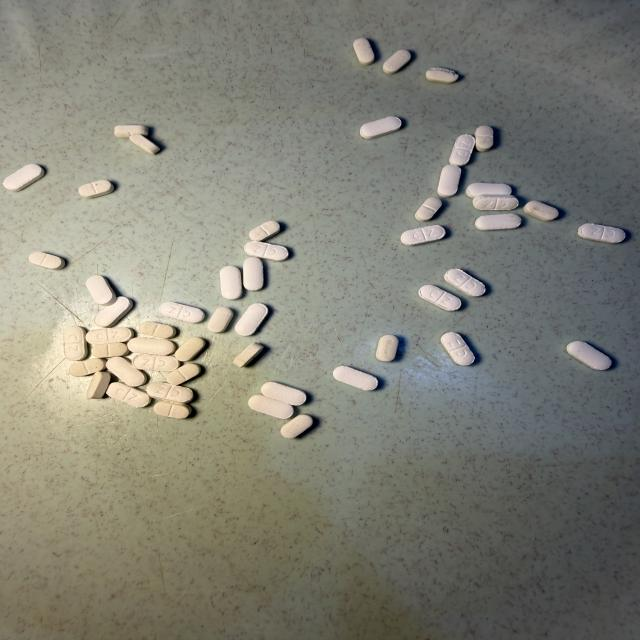pill: (567, 341, 612, 370), (94, 297, 132, 327), (107, 357, 146, 386), (444, 269, 485, 296), (3, 164, 44, 191), (107, 382, 151, 407), (419, 285, 461, 311), (333, 366, 378, 390), (249, 395, 293, 419), (441, 333, 474, 365), (235, 304, 268, 336), (261, 382, 306, 405), (146, 382, 193, 403), (160, 302, 204, 323), (360, 117, 401, 139), (86, 275, 116, 305), (578, 224, 625, 243), (244, 241, 288, 261), (401, 225, 445, 245), (128, 337, 175, 355), (63, 326, 87, 360), (86, 327, 133, 344), (450, 135, 475, 166), (281, 414, 313, 438), (132, 355, 179, 371), (475, 214, 521, 230), (438, 165, 461, 197), (220, 266, 242, 299), (175, 337, 205, 361), (233, 343, 263, 367), (166, 363, 200, 384), (524, 201, 558, 221), (466, 183, 511, 198), (473, 195, 518, 210), (87, 371, 111, 399), (383, 50, 411, 74), (69, 358, 106, 376), (243, 257, 263, 290), (207, 307, 233, 332), (78, 180, 114, 198), (249, 221, 280, 241), (29, 252, 65, 269), (138, 322, 176, 338), (129, 134, 159, 154), (416, 197, 442, 220), (154, 402, 191, 418), (376, 335, 398, 361), (92, 343, 129, 358), (474, 125, 494, 152), (354, 38, 374, 65), (426, 68, 458, 83), (115, 125, 148, 137)
